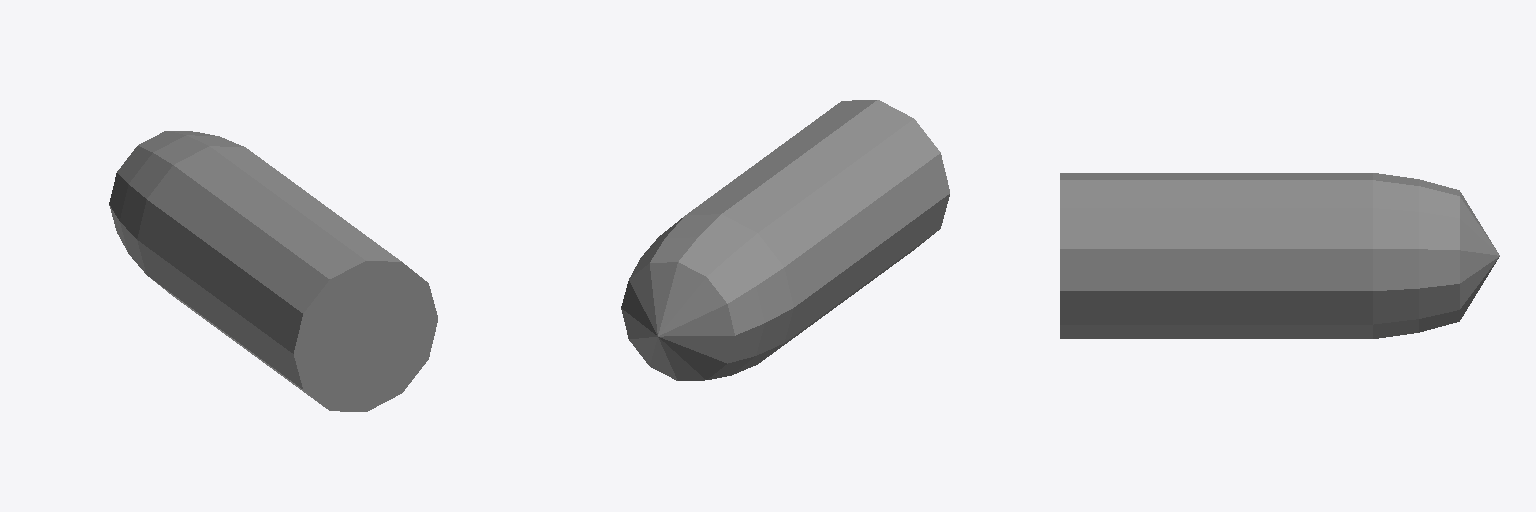
File: rocket_bomb_01.obj
3 renders of one model, left to right at view 1: azimuth 30°, elevation 25°; view 2: azimuth 150°, elevation 25°; view 3: azimuth 270°, elevation 25°, orthographic.
Visible parts, largest first — view 1: rocket_bomb_01; view 2: rocket_bomb_01; view 3: rocket_bomb_01.
Boxes of the visible parts, box(x1,y1,x2,y2) form: rocket_bomb_01: box(109, 131, 437, 411); rocket_bomb_01: box(621, 100, 949, 380); rocket_bomb_01: box(1060, 173, 1499, 338).
Bounding box in the file's own units: 73.58 × 73.58 × 193.